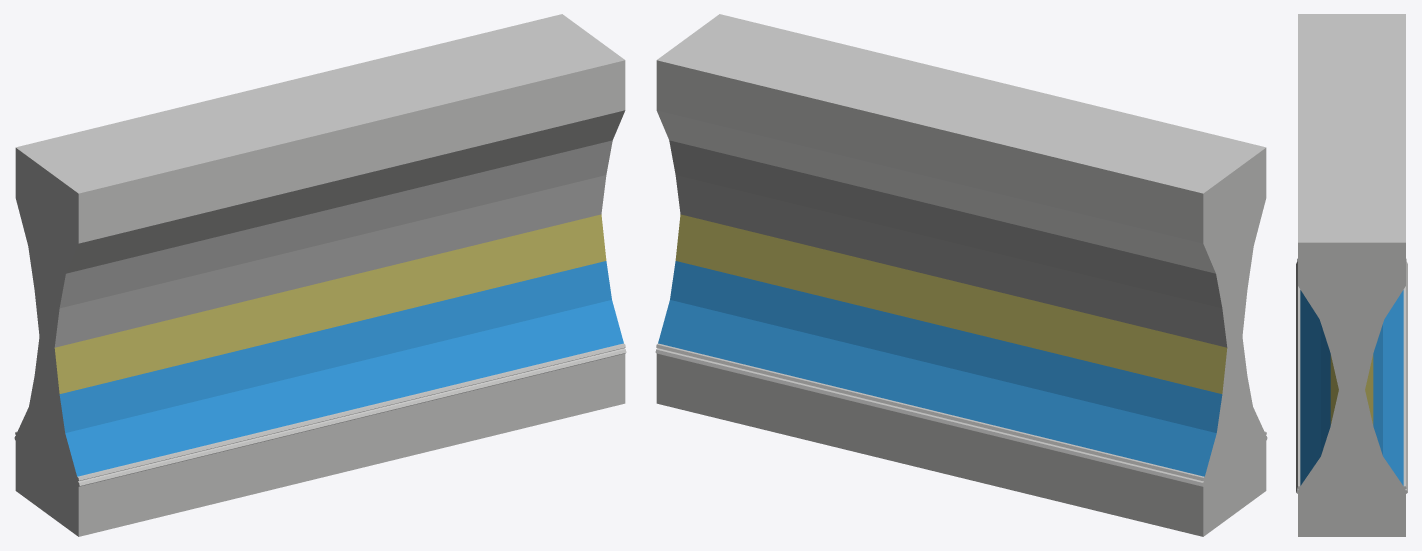
Rendered from SM_Wall_TwoSides.fbx.
The picture shows the model from 3 angles, left to right: view 1: azimuth 30°, elevation 25°; view 2: azimuth 150°, elevation 25°; view 3: azimuth 270°, elevation 25°; orthographic projection. The views are drawn at different scales.
Parts seen in each view (by area): view 1: SM_Wall_DoubleSide; view 2: SM_Wall_DoubleSide; view 3: SM_Wall_DoubleSide.
Boxes of the visible parts, <box> form: SM_Wall_DoubleSide: <box>14,14,626,536</box>; SM_Wall_DoubleSide: <box>655,14,1267,536</box>; SM_Wall_DoubleSide: <box>1296,14,1407,536</box>.
Size of the model in its own units: 1000 by 600 by 207.
